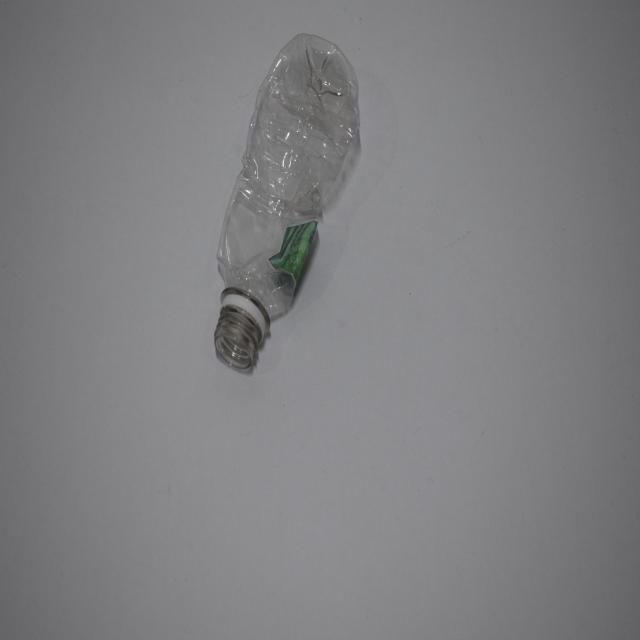plastic: (213, 32, 363, 371)
